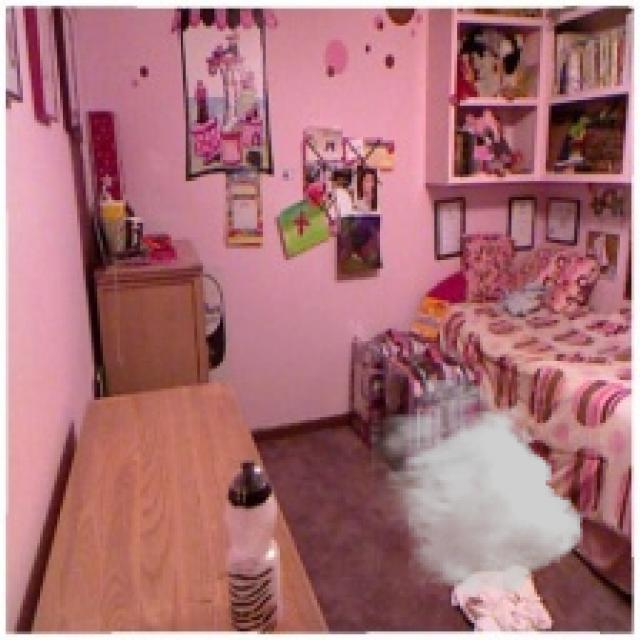Smoke: (371, 380, 583, 597)
